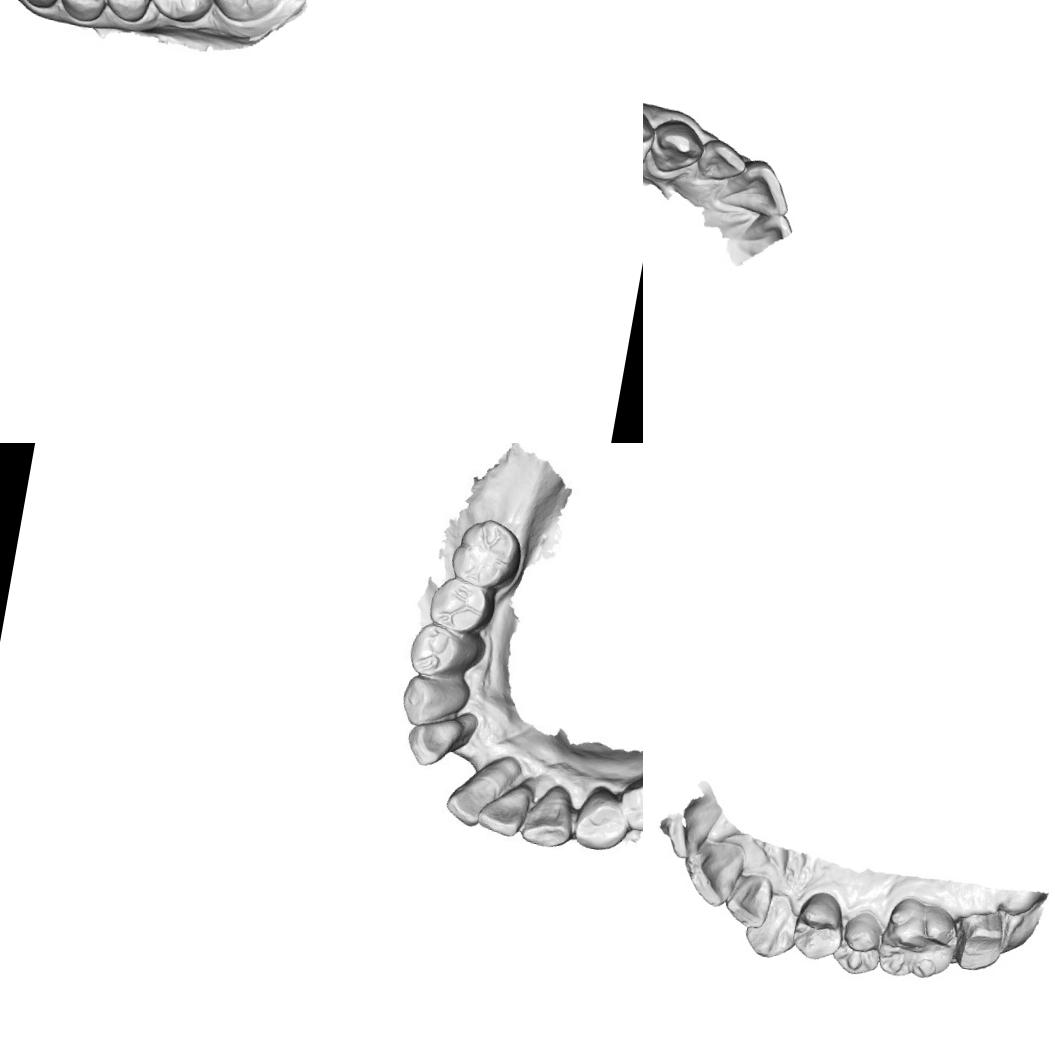canine: (394, 665, 473, 735), (512, 778, 580, 854), (742, 888, 800, 962), (645, 114, 708, 179)
crown: (951, 904, 1014, 978)
incisor: (714, 152, 796, 220), (680, 834, 750, 912), (438, 758, 509, 831), (402, 708, 470, 774), (662, 797, 724, 866), (720, 868, 776, 932), (474, 780, 530, 842), (692, 134, 750, 186)
molar: (872, 892, 966, 986), (444, 509, 528, 597), (203, 0, 293, 29), (143, 0, 220, 25)
premolar: (422, 570, 494, 643), (786, 884, 850, 965), (400, 618, 476, 682), (571, 778, 633, 856), (830, 905, 889, 980), (614, 771, 643, 838), (55, 0, 111, 25), (99, 0, 154, 25), (643, 104, 658, 173)
